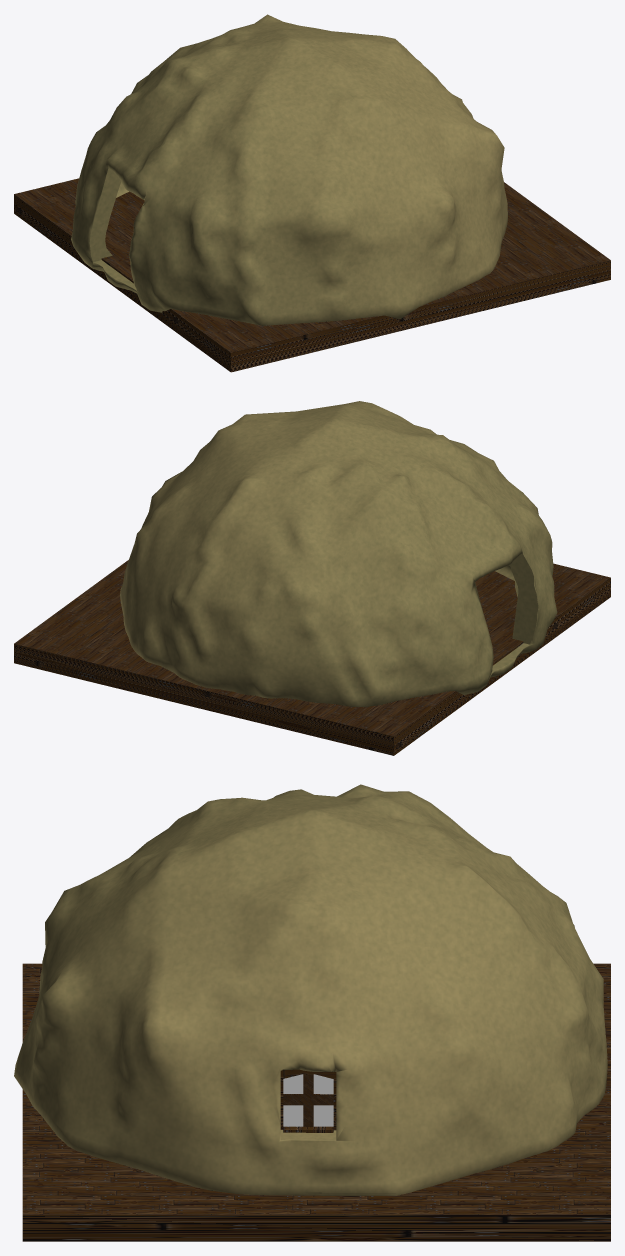
Rendered from House Interior.fbx.
3 renders of one model, top to bottom at view 1: azimuth 30°, elevation 25°; view 2: azimuth 150°, elevation 25°; view 3: azimuth 270°, elevation 25°, orthographic. The views are drawn at different scales.
Visible parts, largest first — view 1: Icosphere, Cube; view 2: Icosphere, Cube; view 3: Icosphere, Cube, Cube.001.
Part boxes in pixels (left/top/right/bottom): Icosphere: left=71, top=14, right=507, bottom=325; Cube: left=14, top=178, right=610, bottom=372; Icosphere: left=120, top=401, right=557, bottom=707; Cube: left=14, top=560, right=610, bottom=755; Icosphere: left=14, top=784, right=607, bottom=1195; Cube: left=22, top=963, right=610, bottom=1241; Cube.001: left=280, top=1069, right=336, bottom=1132.
Size of the model in its own units: 7730 by 4336 by 7466.
3 materials, 2 textured.
